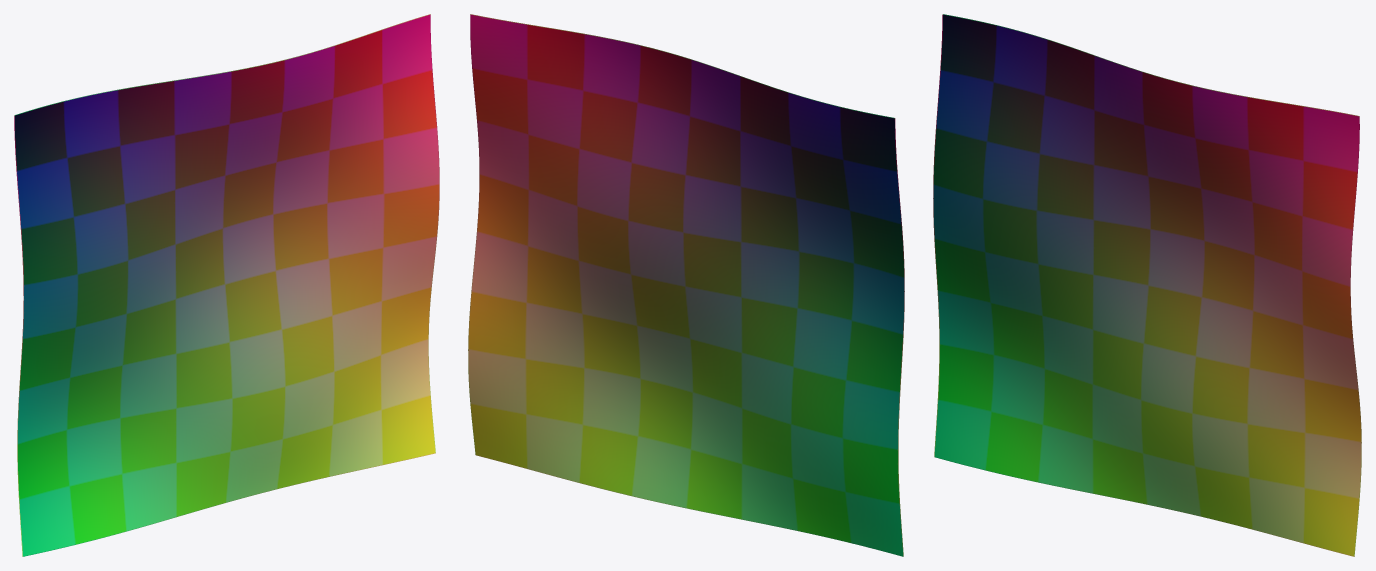
File: Tile_+026_+002.obj
The picture shows the model from 3 angles, left to right: view 1: azimuth 30°, elevation 25°; view 2: azimuth 150°, elevation 25°; view 3: azimuth 330°, elevation 25°; orthographic projection. The views are drawn at different scales.
Bounding box in the file's own units: 100 × 100 × 5.74.
